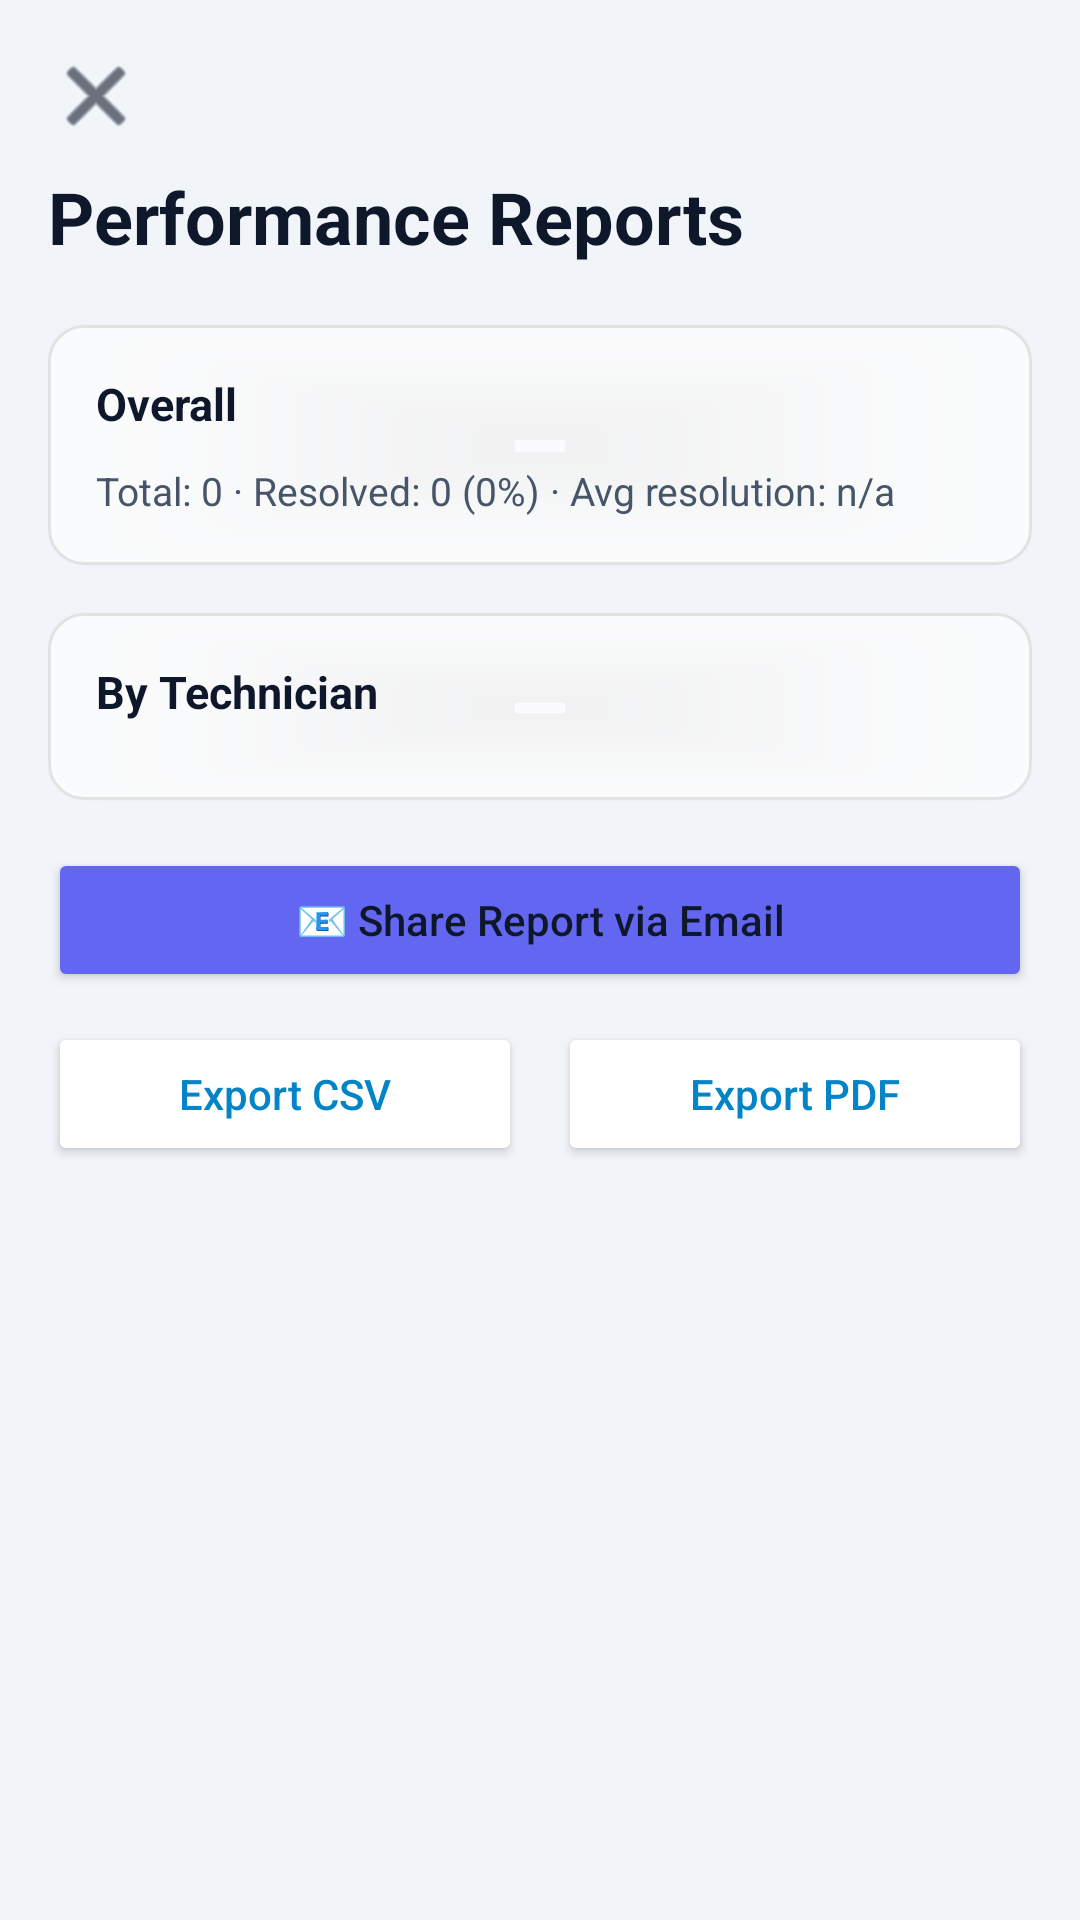

Named icons in this screenshot (1080 × 1920) and their centers, (x,y):
Back: (96,96)
